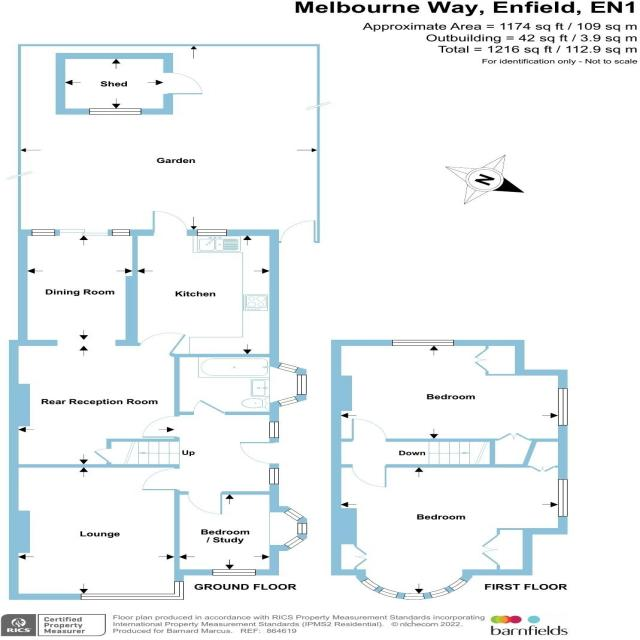DOOR: (137, 332, 187, 356), (151, 210, 188, 236), (141, 415, 180, 438), (239, 442, 279, 464), (142, 468, 180, 491), (351, 464, 387, 488), (351, 418, 387, 442), (187, 491, 223, 515), (193, 399, 226, 415)
ROOM: (8, 229, 180, 468), (331, 438, 568, 600), (331, 340, 568, 442), (125, 211, 279, 357), (174, 491, 308, 576)
WINDOW: (80, 581, 184, 600), (392, 339, 455, 346), (557, 479, 568, 517), (558, 388, 568, 426), (447, 578, 469, 592), (212, 569, 256, 576), (283, 536, 305, 549), (283, 508, 305, 521), (428, 587, 451, 599), (360, 578, 381, 591), (276, 362, 300, 373), (378, 587, 400, 598), (277, 396, 299, 407), (296, 375, 307, 395), (196, 229, 227, 236), (31, 229, 56, 236), (269, 421, 279, 438), (402, 593, 425, 600), (269, 468, 279, 484), (111, 229, 130, 236), (297, 523, 308, 534)
